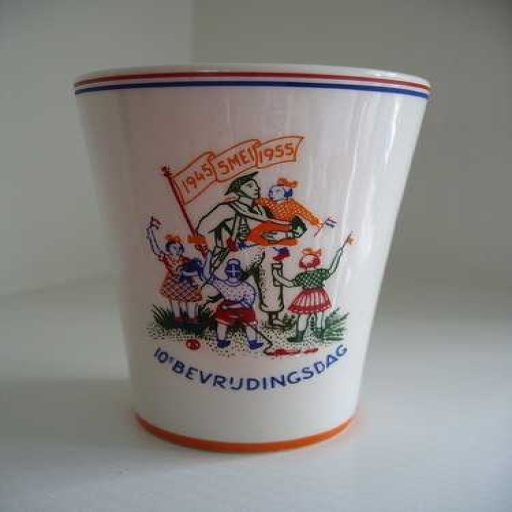cup: (69, 64, 431, 454)
